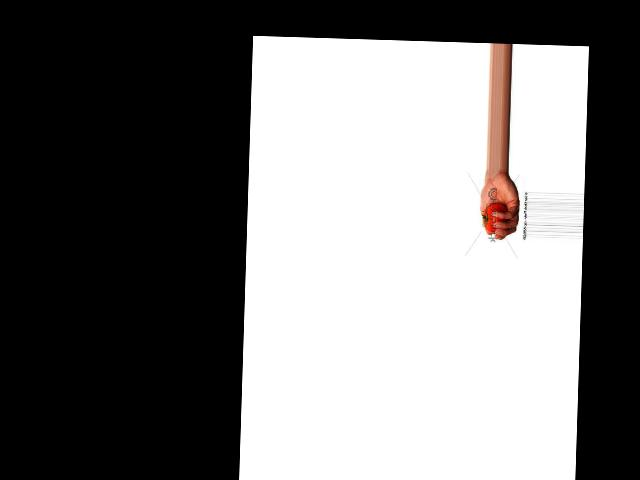tomato: (483, 204, 509, 234)
